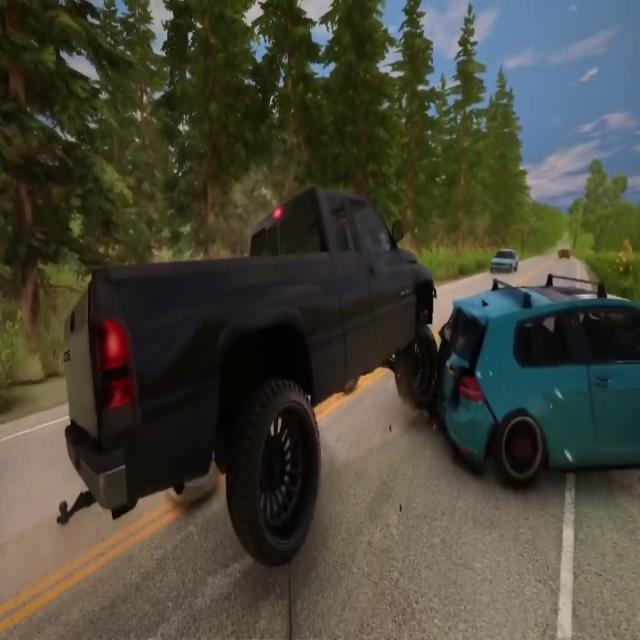accident: (52, 190, 640, 582)
